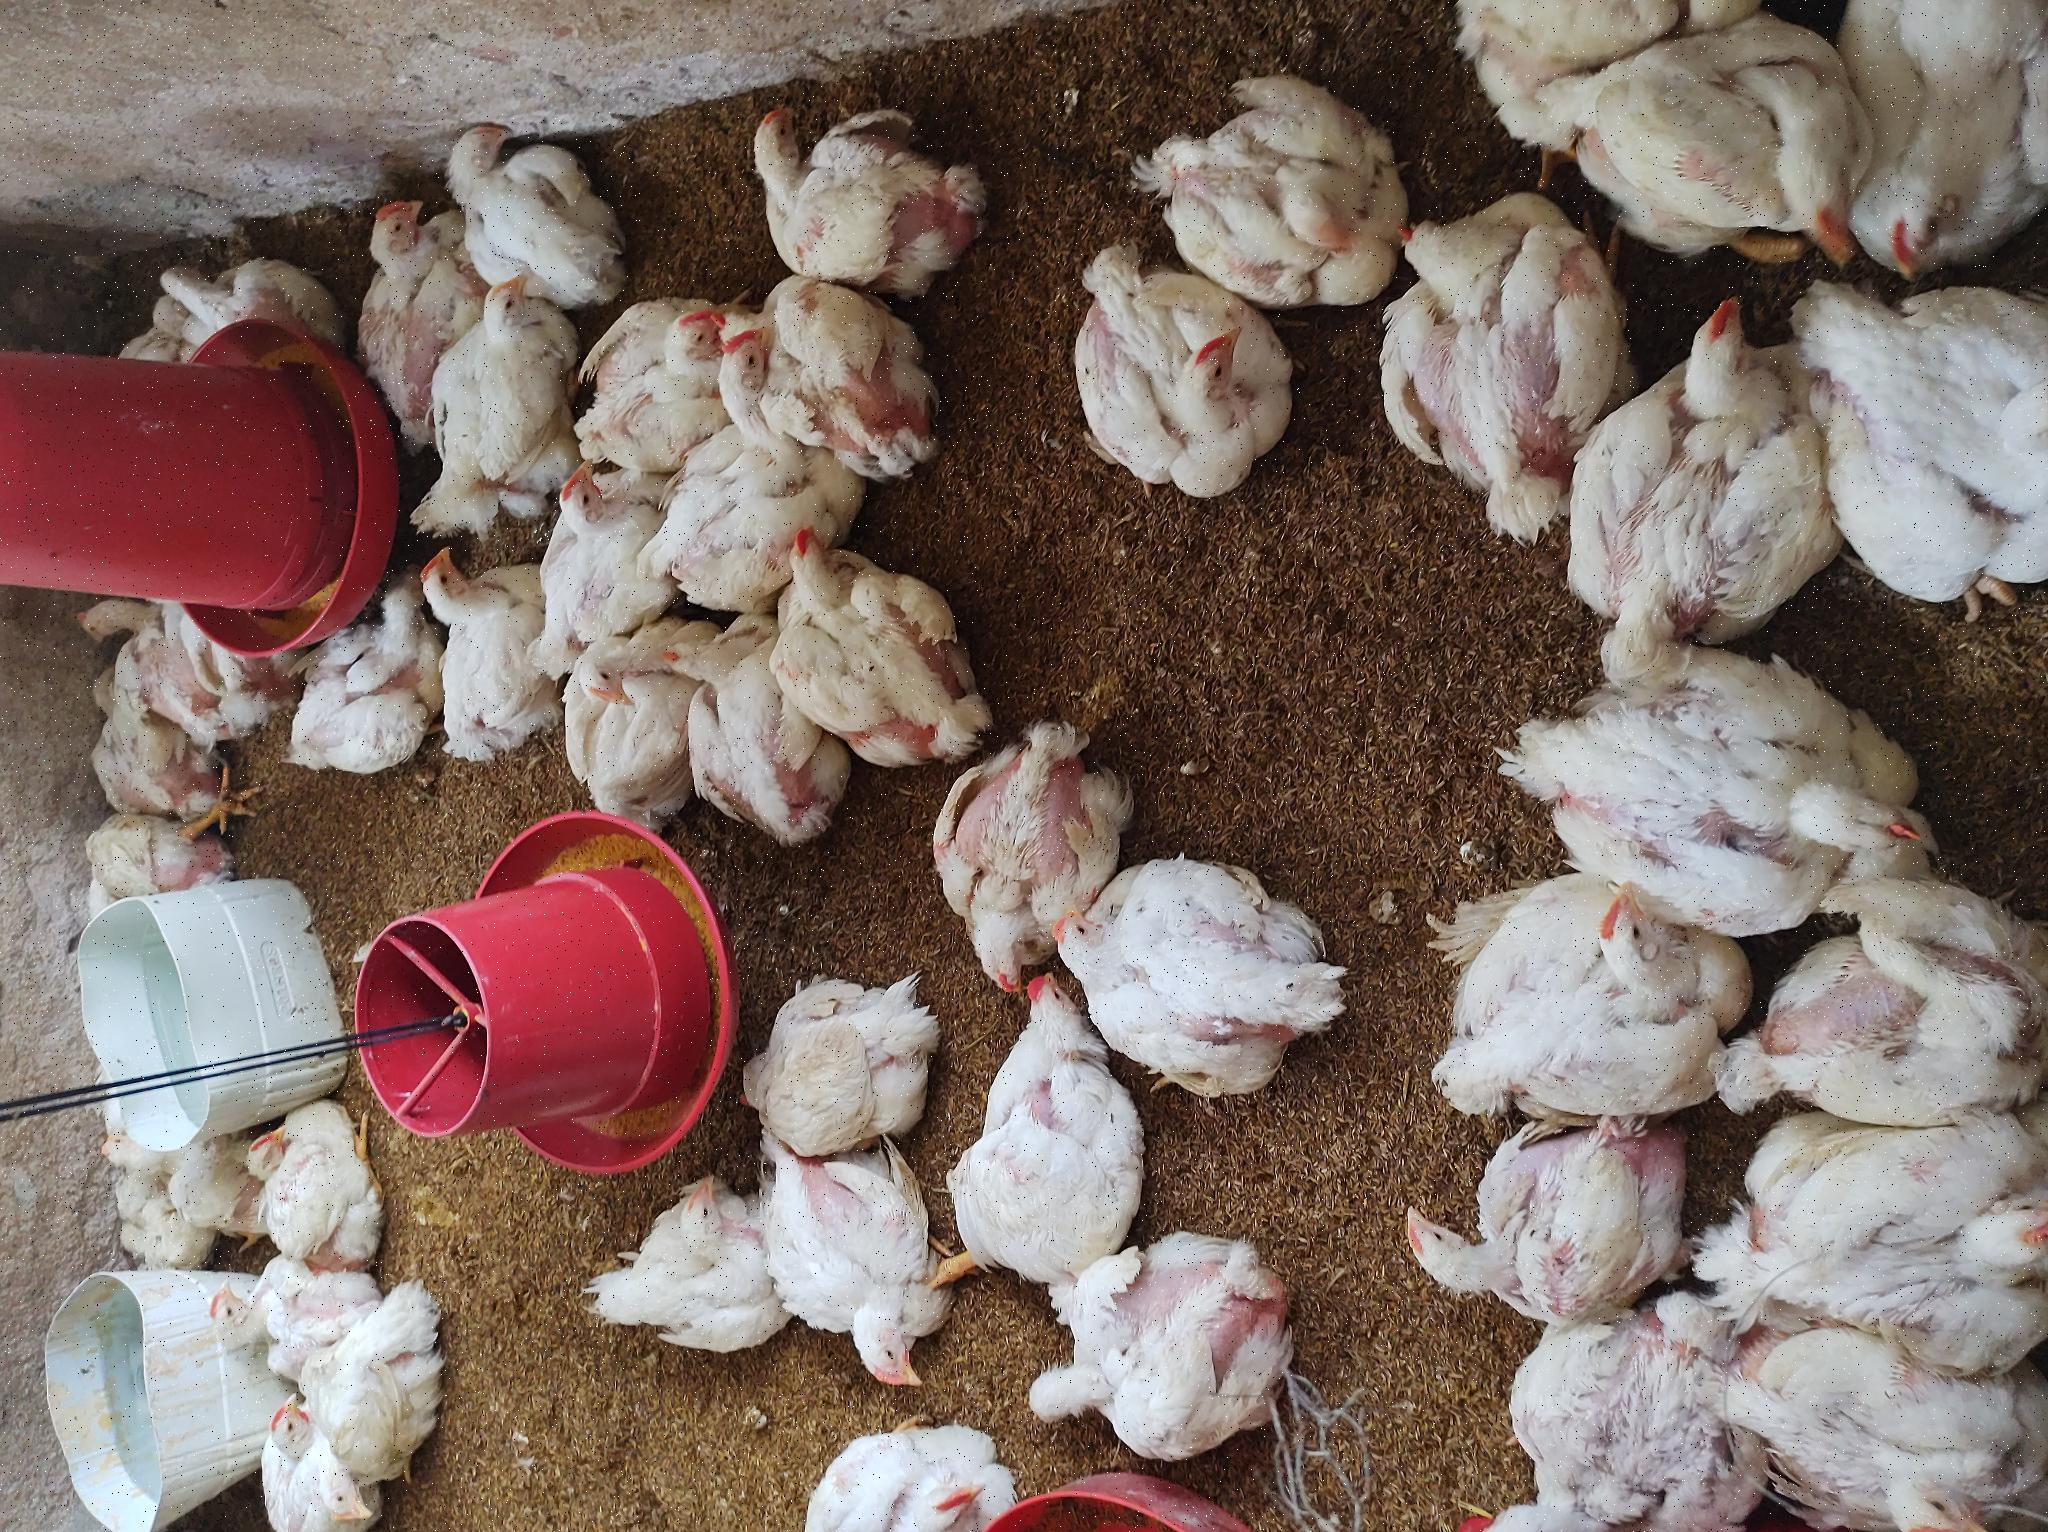Pollos: (447, 1049, 687, 1329), (224, 946, 553, 1146), (68, 1019, 291, 1275), (1236, 1151, 1466, 1390), (1002, 1361, 1326, 1532), (1060, 715, 1276, 962), (766, 780, 1026, 983), (542, 929, 811, 1118), (1038, 1081, 1269, 1287), (1265, 748, 1441, 999), (154, 758, 375, 953), (1247, 434, 1458, 620), (1022, 417, 1265, 573), (751, 423, 994, 571), (703, 665, 903, 838), (743, 282, 960, 439), (386, 737, 561, 908), (182, 595, 357, 763), (16, 322, 235, 452), (220, 1406, 439, 1532), (1055, 583, 1252, 719), (272, 240, 439, 389), (2, 789, 111, 1012), (1174, 340, 1350, 463), (430, 1440, 666, 1532), (607, 64, 722, 240), (1186, 153, 1300, 299), (721, 95, 830, 246), (2, 1464, 212, 1532), (179, 196, 261, 336), (31, 232, 135, 328), (1107, 710, 1210, 797), (890, 68, 967, 166), (988, 550, 1076, 632), (800, 566, 909, 632), (364, 82, 410, 164)
